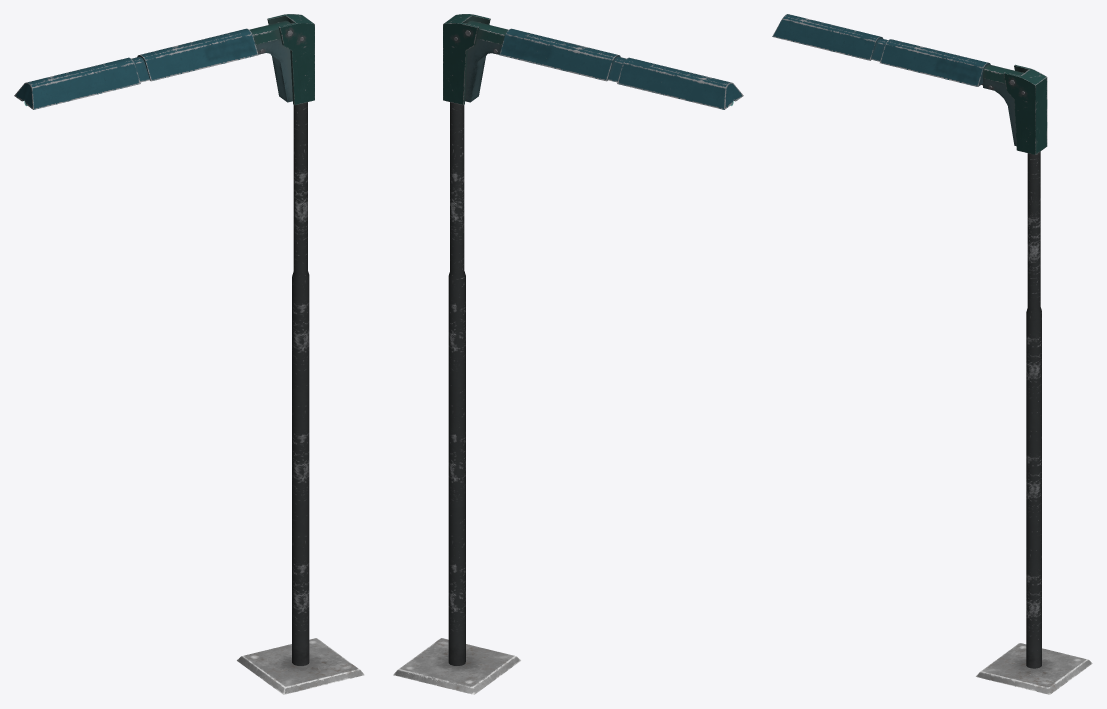
Rendered from TRF0410001.fbx.
The picture shows the model from 3 angles, left to right: view 1: azimuth 30°, elevation 25°; view 2: azimuth 150°, elevation 25°; view 3: azimuth 330°, elevation 25°; orthographic projection. The views are drawn at different scales.
Parts seen in each view (by area): view 1: smTRF0410001; view 2: smTRF0410001; view 3: smTRF0410001.
Part boxes in pixels (bbox=[...]): smTRF0410001: bbox=[14, 14, 364, 694]; smTRF0410001: bbox=[393, 14, 743, 694]; smTRF0410001: bbox=[772, 14, 1092, 694].
Bounding box in the file's own units: 199 × 389 × 50.8.
1 material, 1 textured.
